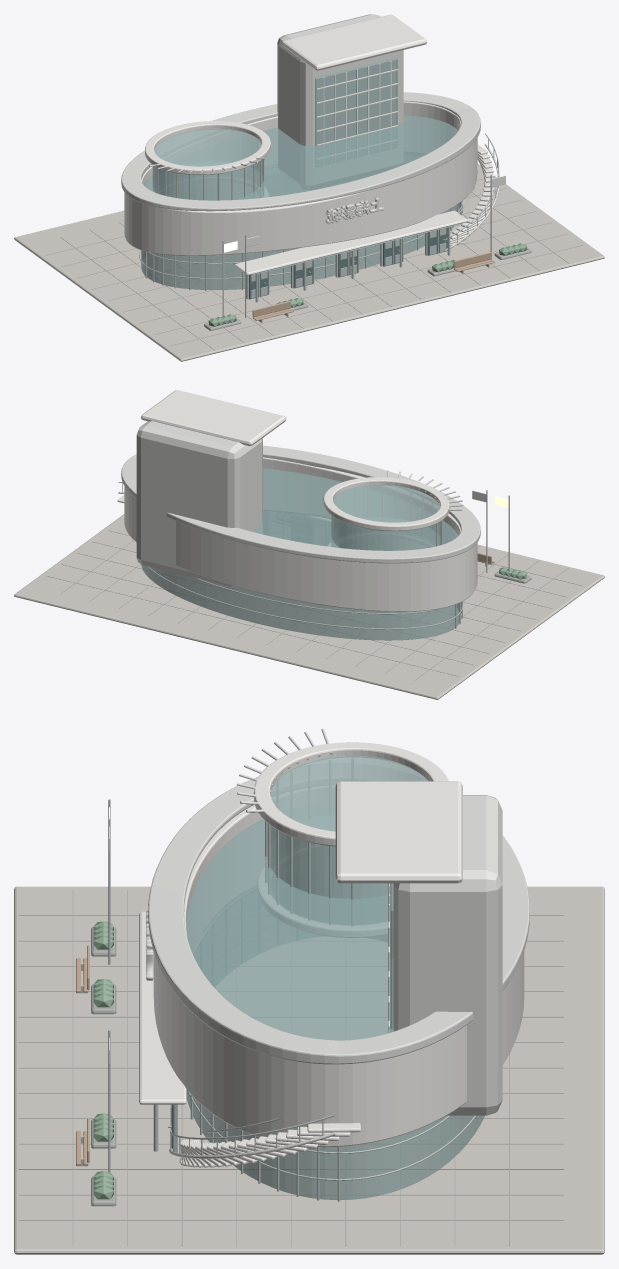
The model's file is shanghai-cinema.glb.
3 renders of one model, top to bottom at view 1: azimuth 30°, elevation 25°; view 2: azimuth 150°, elevation 25°; view 3: azimuth 270°, elevation 25°, orthographic. The views are drawn at different scales.
Visible parts, largest first — view 1: shanghai-cinema; view 2: shanghai-cinema; view 3: shanghai-cinema.
Boxes of the visible parts, x1,y1,x2,y2 form: shanghai-cinema: (14,14,604,361); shanghai-cinema: (14,390,604,699); shanghai-cinema: (14,728,604,1254).
Bounding box in the file's own units: 38 × 14.91 × 26.
